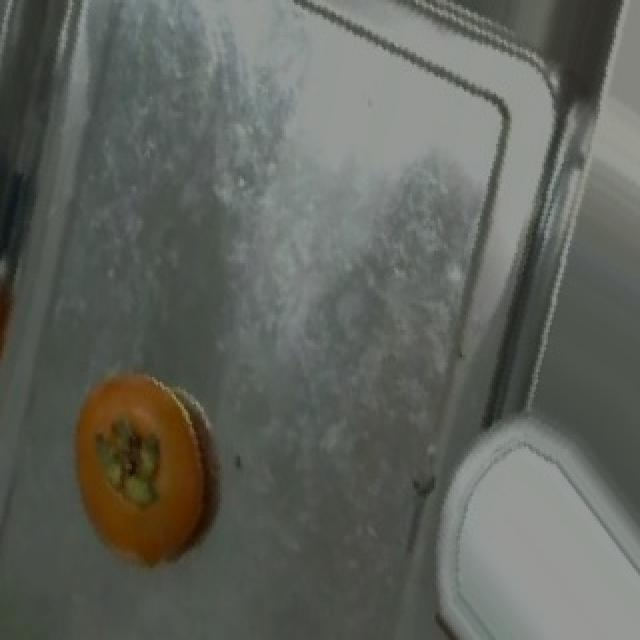Fruit: (46, 347, 232, 588)
